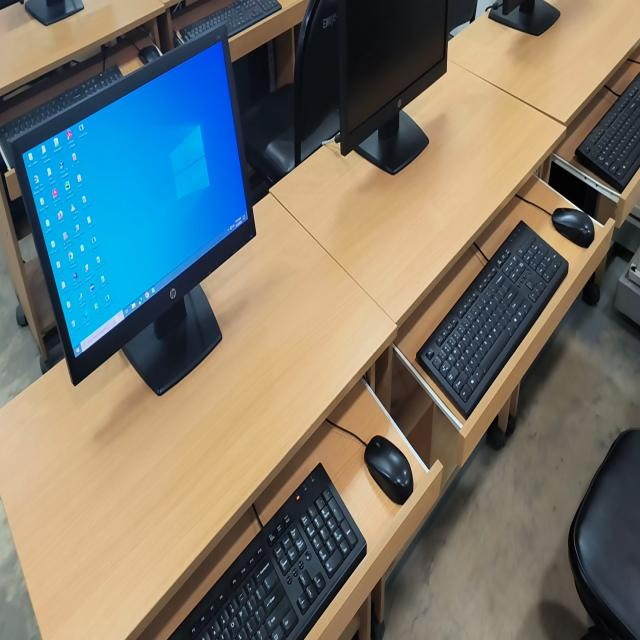Chair: (242, 0, 340, 183), (568, 428, 640, 639), (448, 0, 478, 39)
Cpu: (233, 40, 275, 113)
Keyboard: (170, 463, 367, 639), (418, 221, 568, 418), (0, 65, 123, 146), (575, 73, 640, 192), (180, 0, 281, 41)
Monitor: (11, 25, 256, 395), (338, 0, 449, 174), (489, 0, 560, 36), (24, 0, 84, 25)
Mouse: (364, 436, 413, 504), (552, 208, 594, 248), (139, 44, 162, 63)
